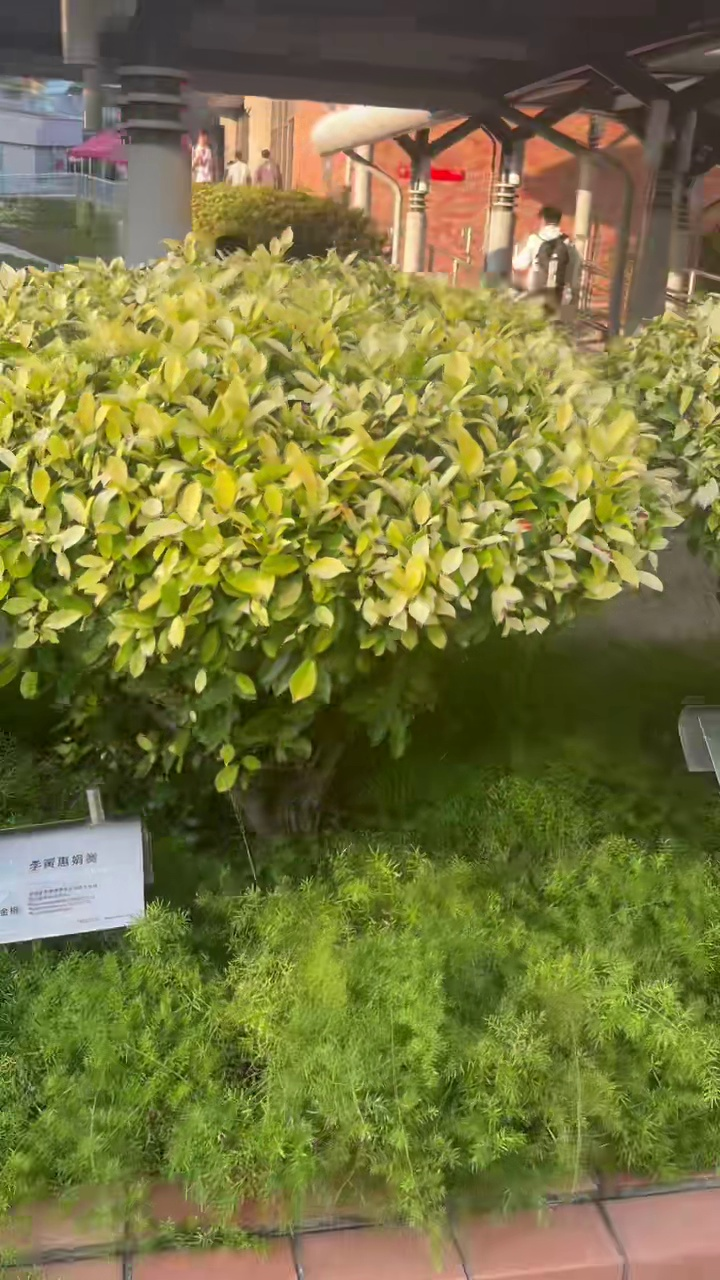Golden-leaves Fig: (0, 232, 675, 792)
